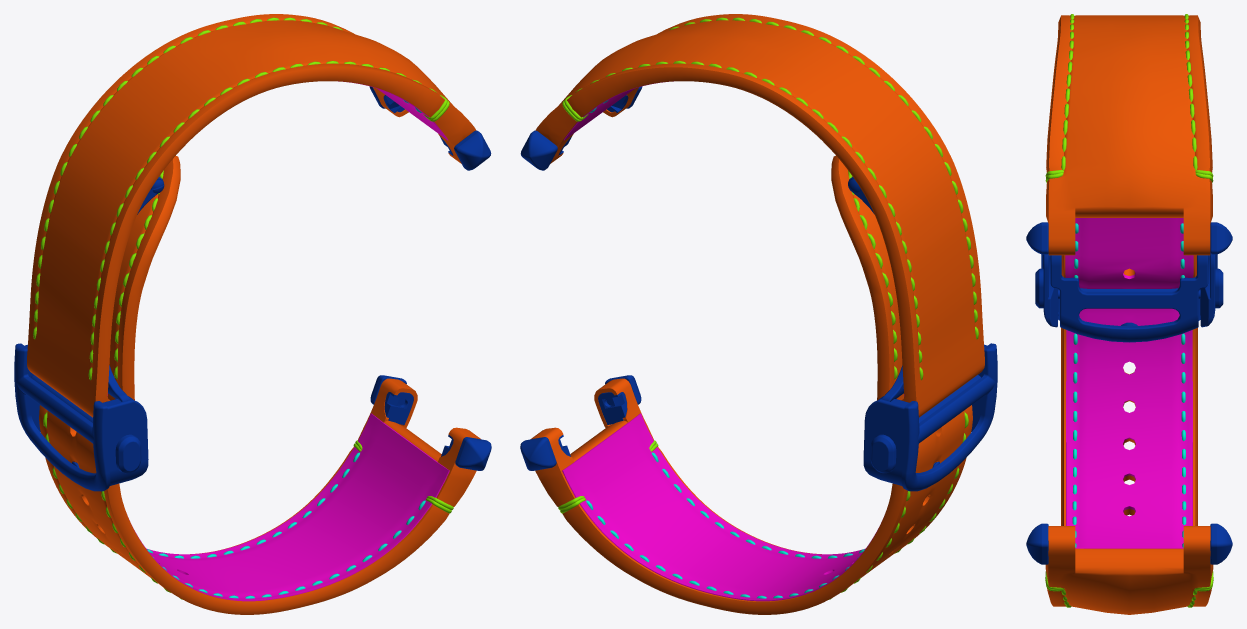
File: Pasha_41_Leather_Strap_v2.fbx
3 renders of one model, left to right at view 1: azimuth 30°, elevation 25°; view 2: azimuth 150°, elevation 25°; view 3: azimuth 270°, elevation 25°, orthographic.
Visible parts, largest first — view 1: Pasha_41_Strap_Top_Strap_1_Low.003, Pasha_41_Strap_Bottom_Strap_1_Low.003, Pasha_41_Strap_Buckle.001, Pasha_41_Strap_Attachment_2_low.005, Pasha_41_Strap_Attachment_2_low.006; view 2: Pasha_41_Strap_Top_Strap_1_Low.003, Pasha_41_Strap_Bottom_Strap_1_Low.003, Pasha_41_Strap_Buckle.001, Pasha_41_Strap_Attachment_2_low.005, Pasha_41_Strap_Attachment_2_low.006; view 3: Pasha_41_Strap_Bottom_Strap_1_Low.003, Pasha_41_Strap_Top_Strap_1_Low.003, Pasha_41_Strap_Buckle.001, Pasha_41_Strap_Attachment_2_low.005, Pasha_41_Strap_Attachment_2_low.006.
Boxes of the visible parts, x1,y1,x2,y2 form: Pasha_41_Strap_Top_Strap_1_Low.003: (27, 14, 476, 417); Pasha_41_Strap_Bottom_Strap_1_Low.003: (39, 156, 480, 614); Pasha_41_Strap_Buckle.001: (14, 177, 164, 491); Pasha_41_Strap_Attachment_2_low.005: (370, 375, 491, 470); Pasha_41_Strap_Attachment_2_low.006: (369, 86, 491, 170); Pasha_41_Strap_Top_Strap_1_Low.003: (535, 14, 984, 417); Pasha_41_Strap_Bottom_Strap_1_Low.003: (530, 156, 972, 614); Pasha_41_Strap_Buckle.001: (848, 177, 997, 491); Pasha_41_Strap_Attachment_2_low.005: (520, 375, 641, 470); Pasha_41_Strap_Attachment_2_low.006: (520, 86, 642, 170); Pasha_41_Strap_Bottom_Strap_1_Low.003: (1045, 218, 1213, 614); Pasha_41_Strap_Top_Strap_1_Low.003: (1045, 14, 1213, 255); Pasha_41_Strap_Buckle.001: (1035, 222, 1223, 342); Pasha_41_Strap_Attachment_2_low.005: (1026, 523, 1232, 564); Pasha_41_Strap_Attachment_2_low.006: (1026, 222, 1232, 254).
Size of the model in its own units: 59.18 by 78.37 by 26.79.
